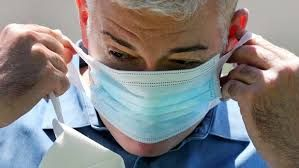with-mask: (61, 1, 269, 164)
